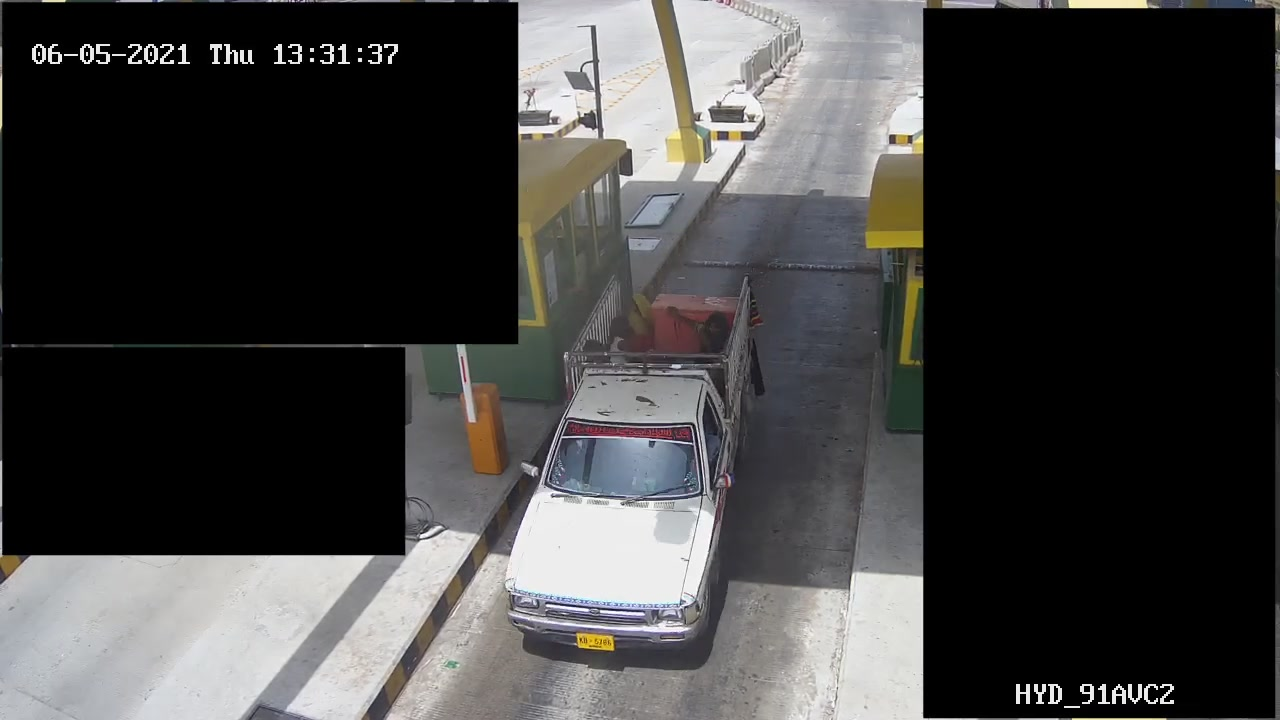F1: (494, 262, 760, 663)
